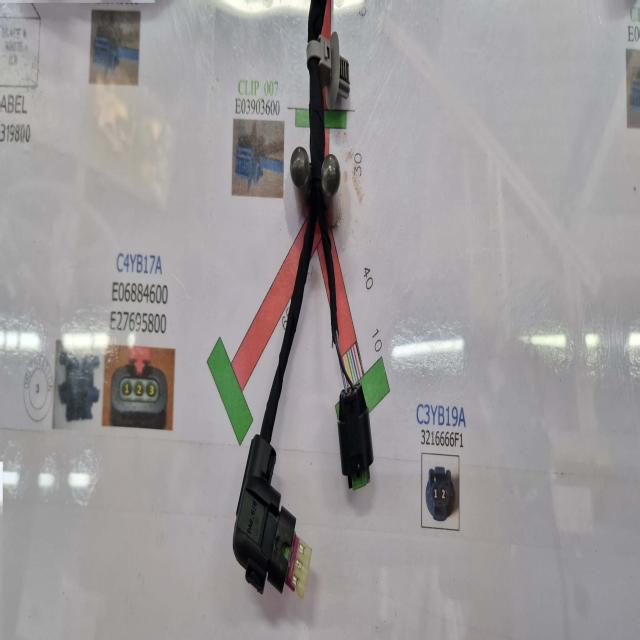Clip: (306, 30, 350, 106)
Connector: (233, 435, 312, 599), (338, 384, 374, 490)
Gape: (328, 330, 355, 395)
MHEV_N11_Cable: (261, 50, 339, 438), (309, 0, 328, 57)
